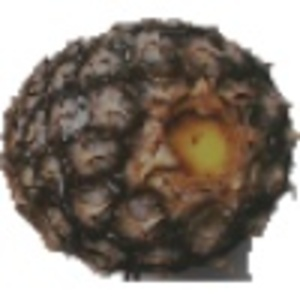abacaxi: (7, 15, 283, 264)
